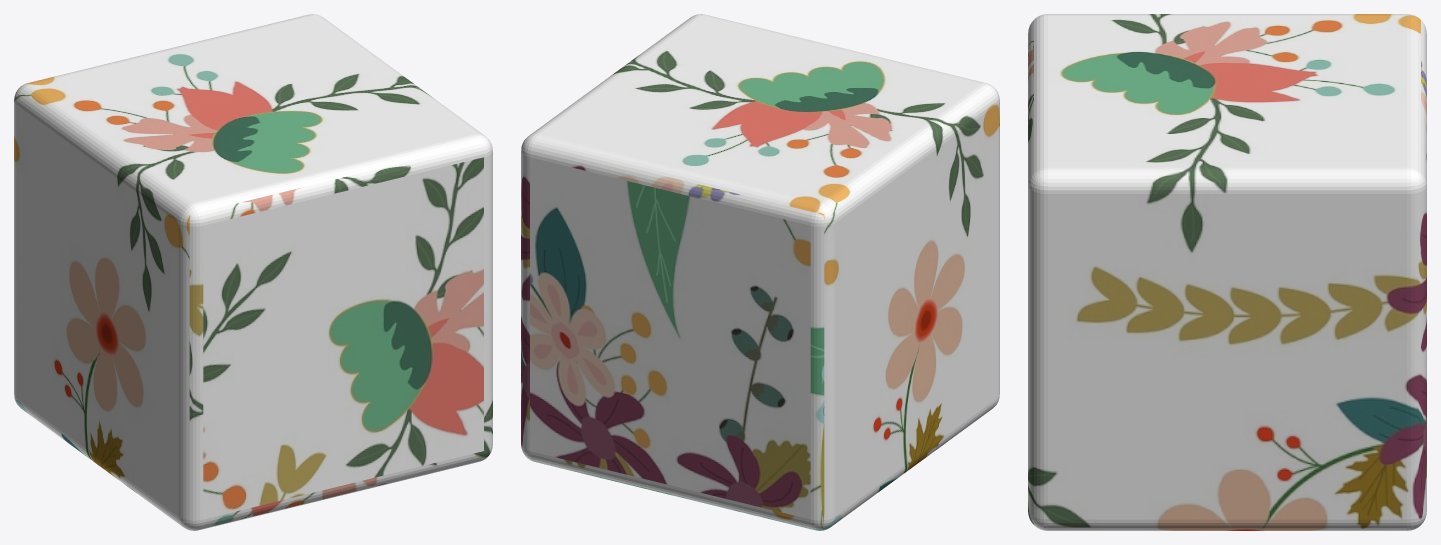
File: boxtest4r.gltf
3 views of the same model, side by side, from view 1: azimuth 30°, elevation 25°; view 2: azimuth 150°, elevation 25°; view 3: azimuth 270°, elevation 25° (orthographic). The views are drawn at different scales.
Visible parts, largest first — view 1: Cube; view 2: Cube; view 3: Cube.
Part boxes in pixels (x1,y1,x2,y2): Cube: (14, 14, 492, 530); Cube: (521, 14, 999, 530); Cube: (1028, 14, 1426, 530).
Bounding box in the file's own units: 100 × 100 × 100.
1 material, 1 textured.
